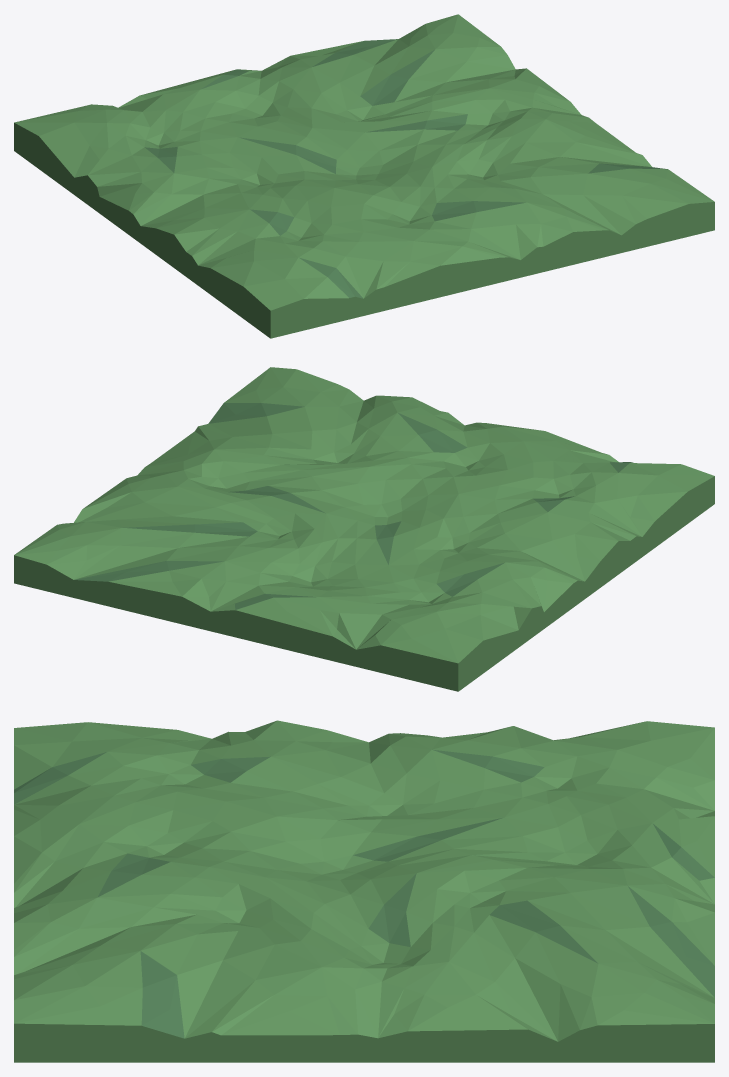
The model's file is Floor_Grass.fbx.
The picture shows the model from 3 angles, top to bottom: view 1: azimuth 30°, elevation 25°; view 2: azimuth 150°, elevation 25°; view 3: azimuth 270°, elevation 25°; orthographic projection. The views are drawn at different scales.
Visible parts, largest first — view 1: Floor_Grass; view 2: Floor_Grass; view 3: Floor_Grass.
Part boxes in pixels (box(x1,y1,x2,y2)): Floor_Grass: box(14, 14, 714, 338); Floor_Grass: box(14, 367, 714, 691); Floor_Grass: box(14, 720, 714, 1062).
Bounding box in the file's own units: 200 × 18.84 × 200.
